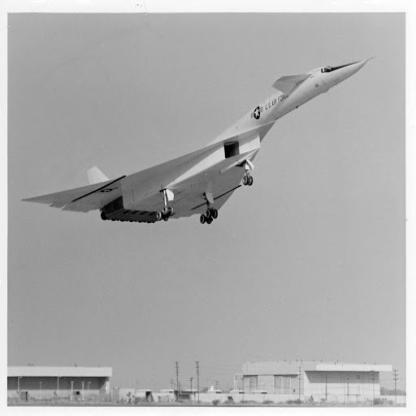XB70: (21, 55, 377, 226)
